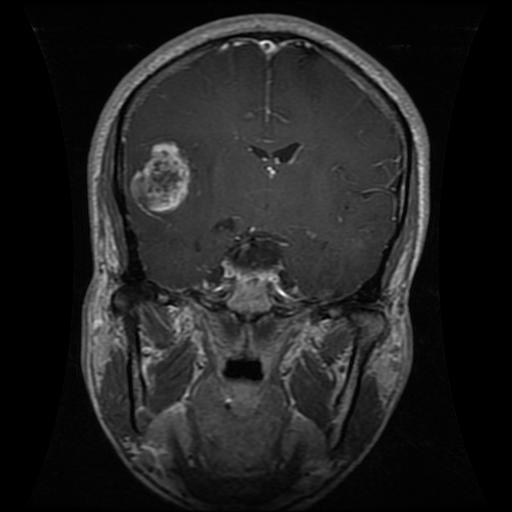Gliomia_tumour: (125, 138, 193, 216)
